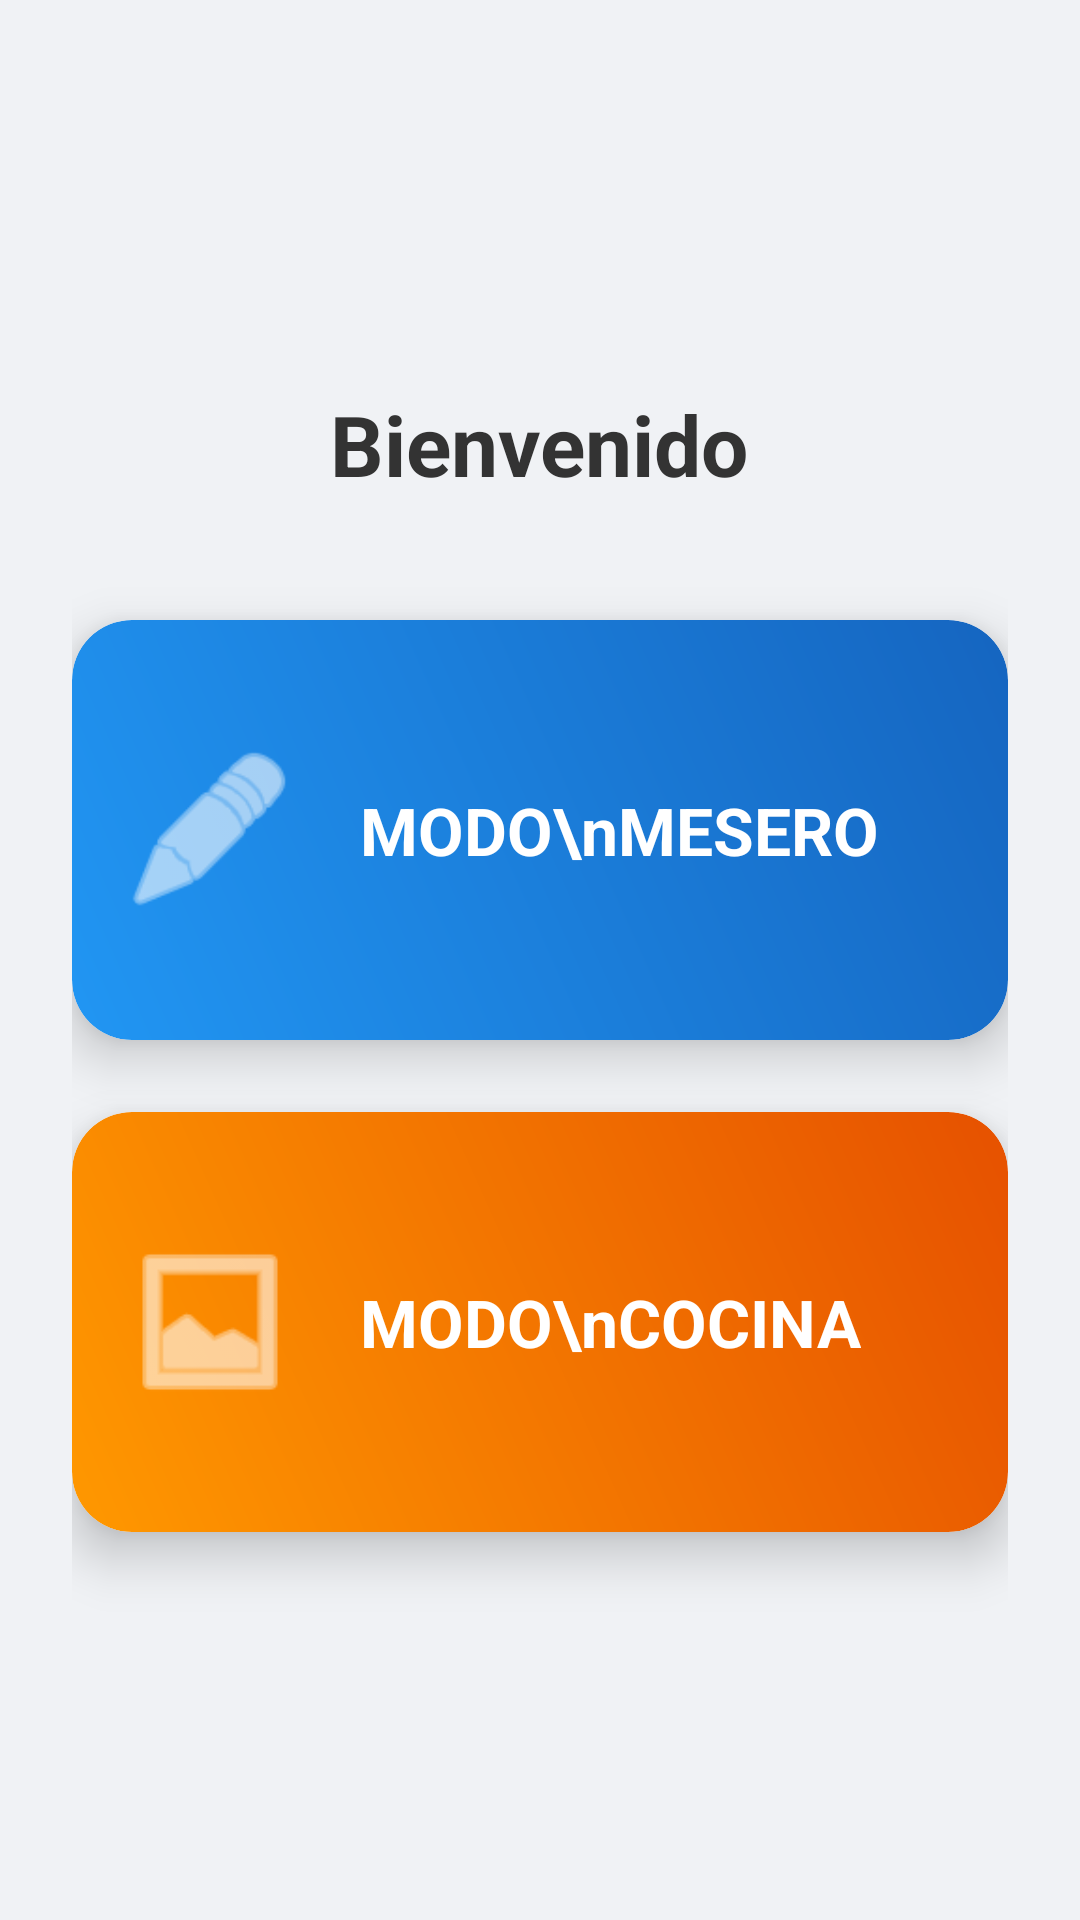

Where to tap for icons on this 1080x1920 app screen, as point (x, y):
edit: point (209, 829)
gallery: point (210, 1322)
